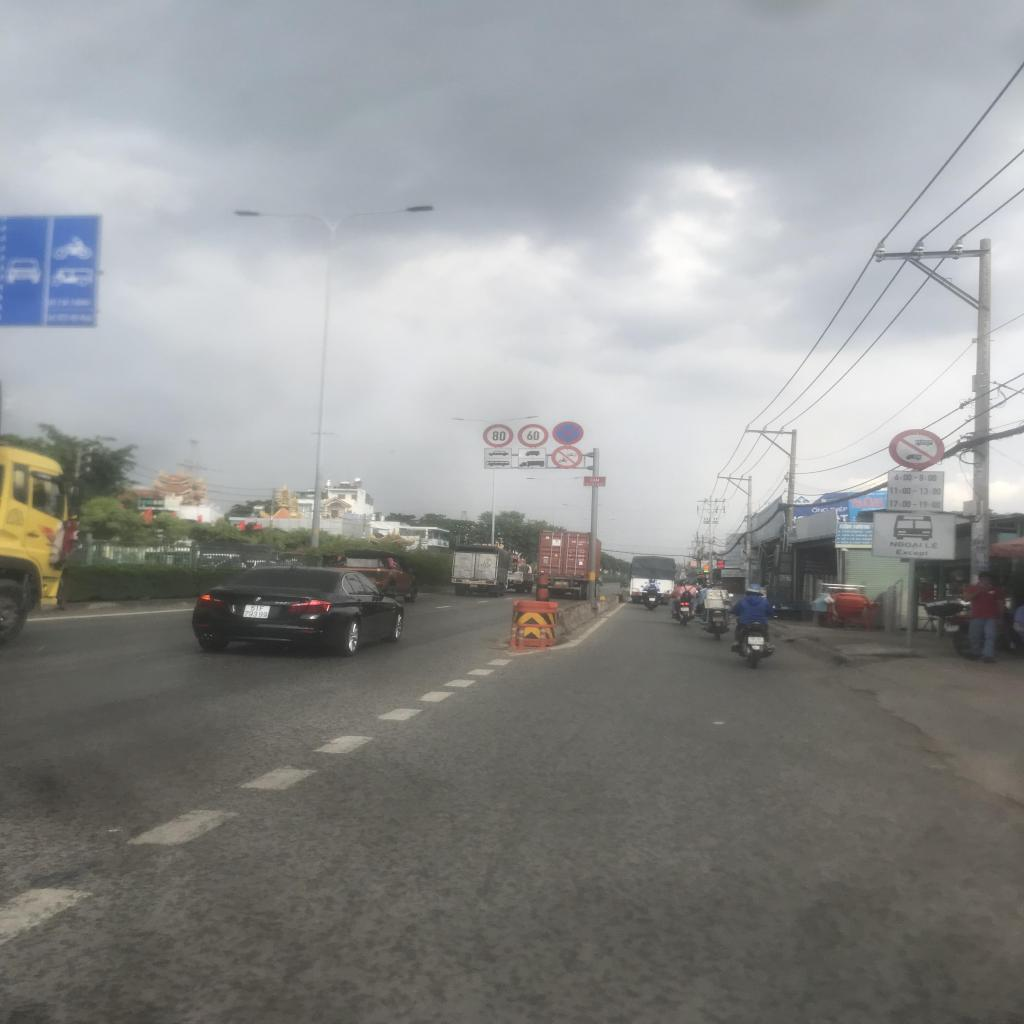cam_dung_xe_va_do_xe: (552, 420, 584, 446)
cam_o_to_tai_va_xe_khach: (888, 428, 944, 469)
cam_xe_2_banh_va_xe_3_banh_co_dong_co: (551, 445, 583, 469)
khac: (872, 512, 955, 559), (887, 471, 944, 511), (518, 458, 546, 469), (483, 458, 512, 468), (484, 448, 512, 458), (518, 449, 546, 459)
lan_duong_cho_tung_xe_theo_vach_ke_duong: (1, 217, 99, 328)
toc_do_toi_da_60: (517, 424, 549, 448)
toc_do_toi_da_80: (483, 424, 513, 447)
